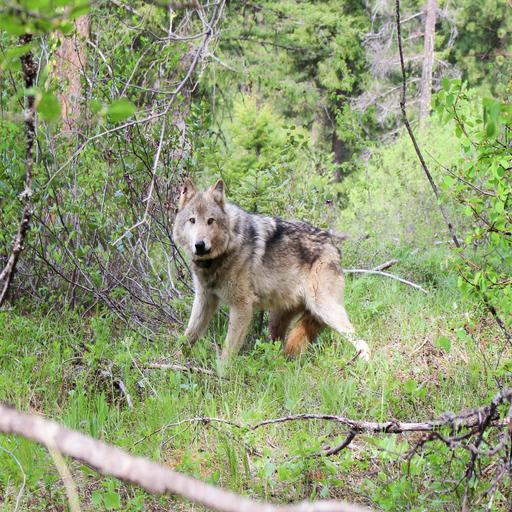Wolf: (169, 174, 372, 385)
